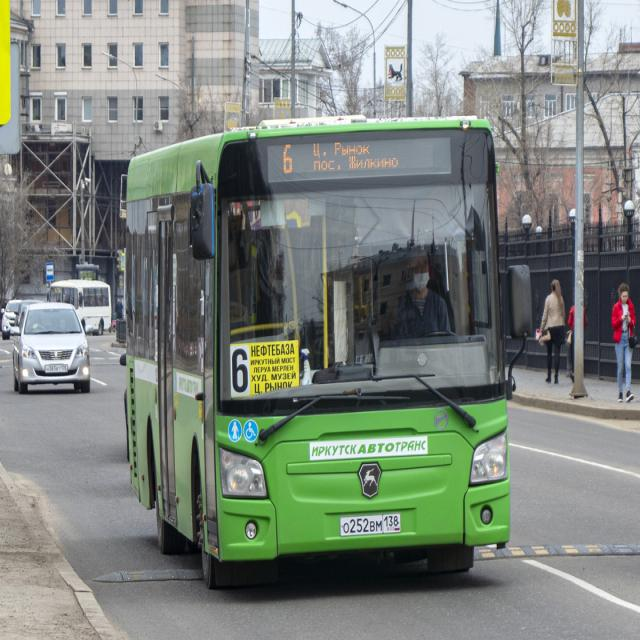number-of-bus: (232, 345, 249, 396)
